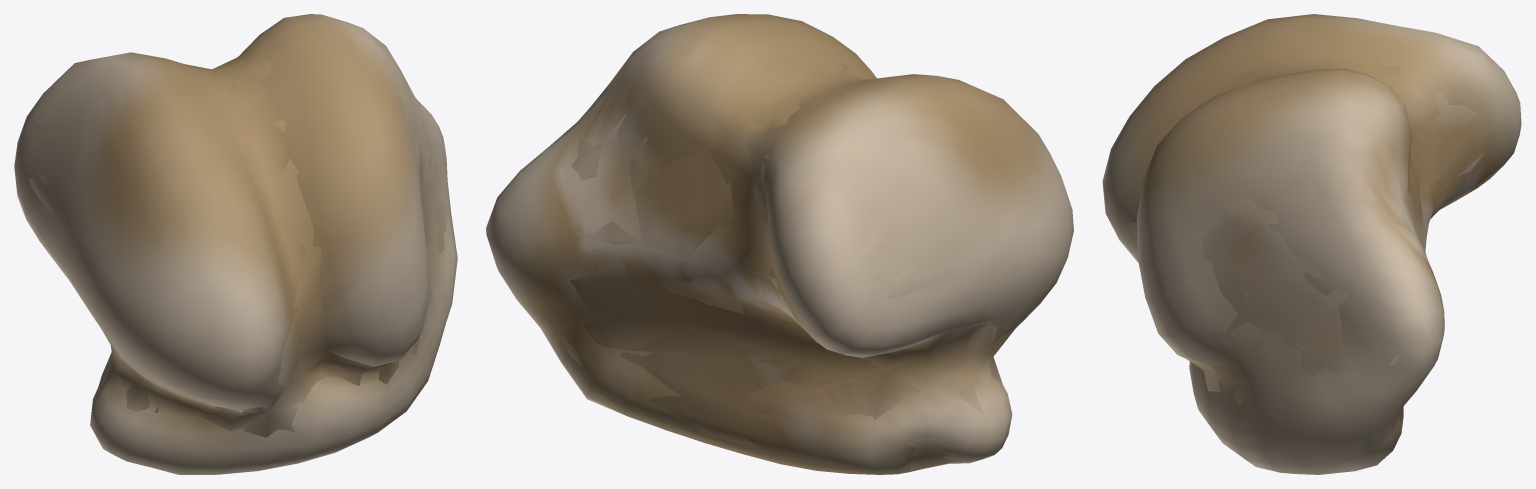
File: L talus.fbx
3 views of the same model, side by side, from view 1: azimuth 30°, elevation 25°; view 2: azimuth 150°, elevation 25°; view 3: azimuth 270°, elevation 25° (orthographic). The views are drawn at different scales.
Visible parts, largest first — view 1: L talus, L talus low; view 2: L talus, L talus low; view 3: L talus, L talus low.
Part boxes in pixels (x1,y1,x2,y2): L talus: (14,14,457,474); L talus low: (28,50,448,438); L talus: (486,14,1073,474); L talus low: (541,54,1014,470); L talus: (1102,14,1521,474); L talus low: (1127,61,1484,423).
Bounding box in the file's own units: 8.2 × 7.14 × 7.13.
